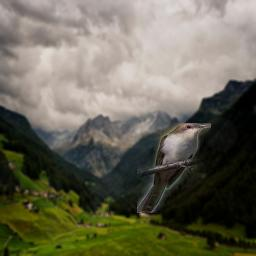Cuckoo: (137, 123, 211, 213)
